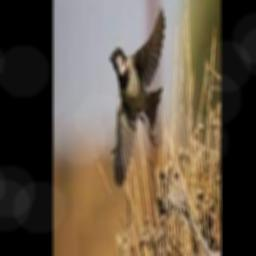Sparrow: (110, 6, 165, 187)
